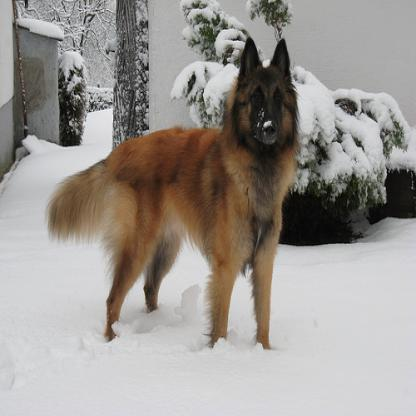dog: (48, 37, 300, 352)
